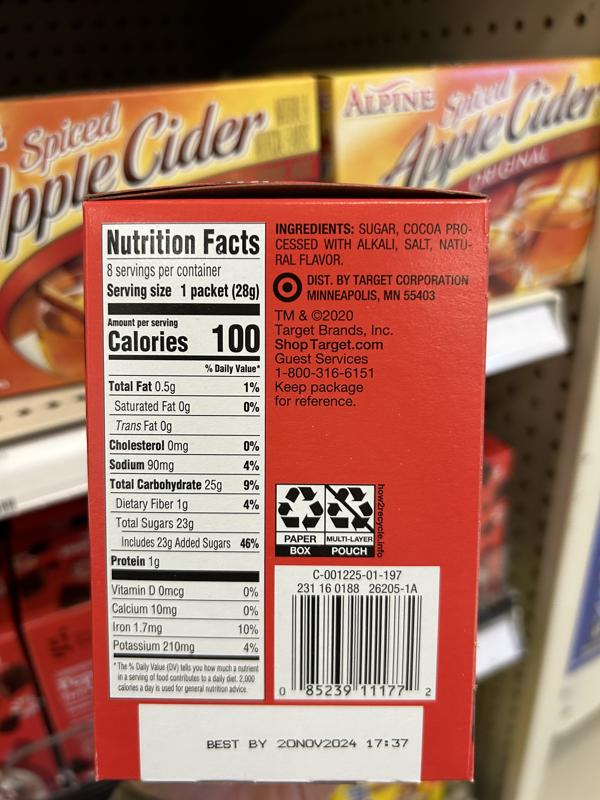ingredients: (271, 220, 477, 267)
